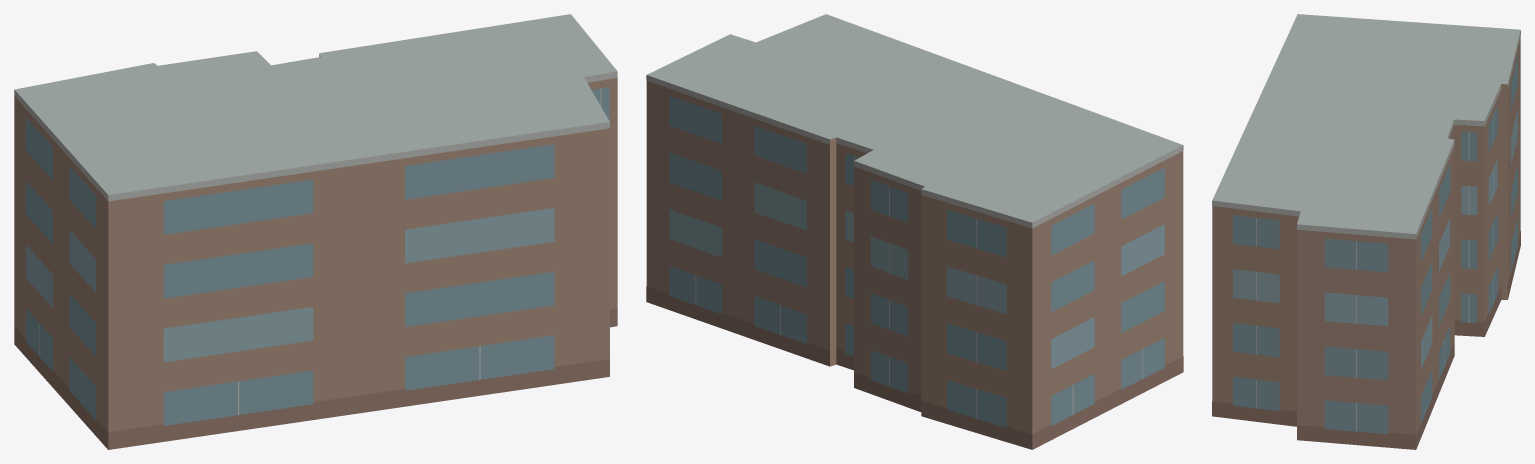
The model's file is survey-upis-32986883.glb.
3 renders of one model, left to right at view 1: azimuth 30°, elevation 25°; view 2: azimuth 150°, elevation 25°; view 3: azimuth 270°, elevation 25°, orthographic. The views are drawn at different scales.
Parts seen in each view (by area): view 1: survey-upis-32986883.tmp; view 2: survey-upis-32986883.tmp; view 3: survey-upis-32986883.tmp.
Boxes of the visible parts, box(x1,y1,x2,y2) form: survey-upis-32986883.tmp: box(14, 14, 617, 449); survey-upis-32986883.tmp: box(646, 14, 1183, 449); survey-upis-32986883.tmp: box(1212, 14, 1520, 449).
Size of the model in its own units: 21.45 by 9.8 by 12.72.
